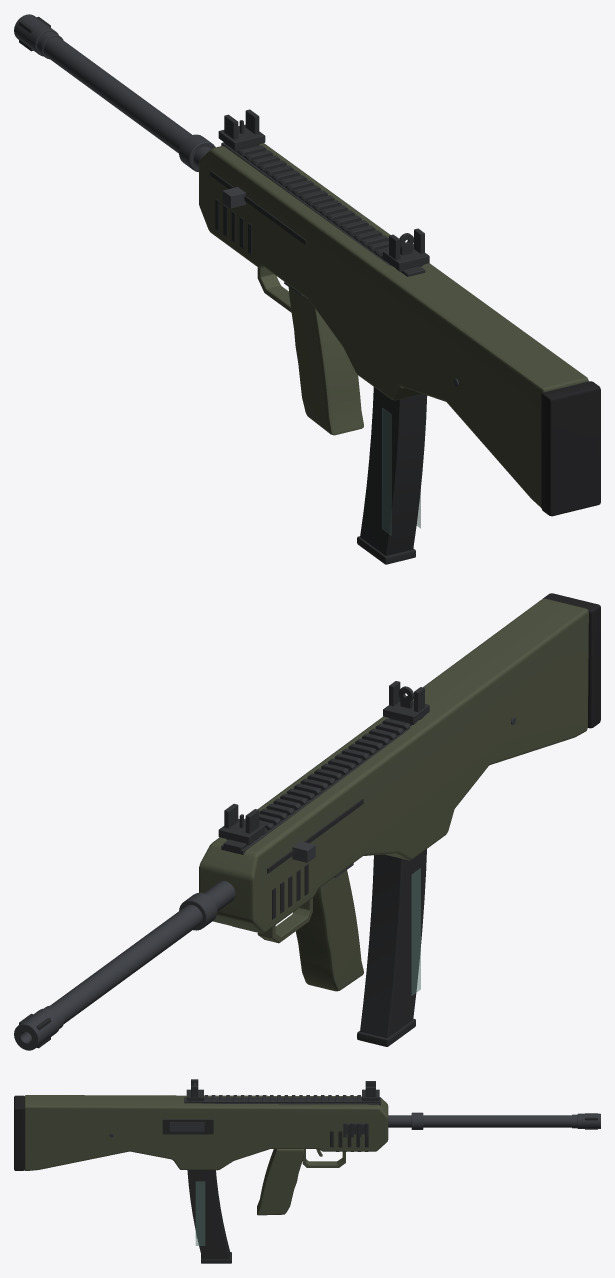
Rendered from wpn_tern_556.glb.
3 renders of one model, top to bottom at view 1: azimuth 30°, elevation 25°; view 2: azimuth 150°, elevation 25°; view 3: azimuth 270°, elevation 25°, orthographic. The views are drawn at different scales.
Parts seen in each view (by area): view 1: Shell, Magazine, ButtPad, Grip, Barrel, ShellRail, IronSights, ShellDetails, MagazineWindow, FlashHider, TriggerGroup; view 2: Shell, Magazine, Grip, Barrel, ShellRail, IronSights, ButtPad, ShellDetails, FlashHider, MagazineWindow, TriggerGroup, GasBlock; view 3: Shell, Magazine, Barrel, Grip, ShellRail, ShellDetails, ButtPad, MagazineWindow, IronSights, FlashHider, TriggerGroup.
Boxes of the visible parts, box(x1,y1,x2,y2) form: Shell: box(199, 143, 588, 507); Magazine: box(357, 387, 427, 564); ButtPad: box(541, 381, 600, 516); Grip: box(288, 287, 363, 435); Barrel: box(37, 31, 211, 167); ShellRail: box(221, 142, 425, 276); IronSights: box(218, 109, 429, 270); ShellDetails: box(210, 170, 458, 386); MagazineWindow: box(382, 408, 420, 535); FlashHider: box(14, 14, 58, 56); TriggerGroup: box(257, 267, 291, 312); Shell: box(199, 598, 588, 933); Magazine: box(357, 849, 426, 1046); Grip: box(295, 870, 363, 991); Barrel: box(44, 881, 235, 1028); ShellRail: box(221, 716, 424, 932); IronSights: box(218, 681, 429, 844); ButtPad: box(543, 593, 600, 728); ShellDetails: box(267, 717, 515, 919); FlashHider: box(14, 1008, 59, 1050); MagazineWindow: box(411, 868, 420, 995); TriggerGroup: box(257, 898, 312, 943); GasBlock: box(179, 892, 217, 930); Shell: box(24, 1095, 388, 1170); Magazine: box(187, 1170, 231, 1263); Barrel: box(388, 1114, 577, 1128); Grip: box(257, 1149, 304, 1215); ShellRail: box(184, 1095, 380, 1151); ShellDetails: box(109, 1119, 368, 1147); ButtPad: box(14, 1095, 24, 1170); MagazineWindow: box(195, 1181, 205, 1245); IronSights: box(186, 1079, 379, 1101); FlashHider: box(577, 1113, 600, 1129); TriggerGroup: box(302, 1149, 345, 1167).
Bounding box in the file's own units: 0.0657 × 0.2682 × 0.806.
